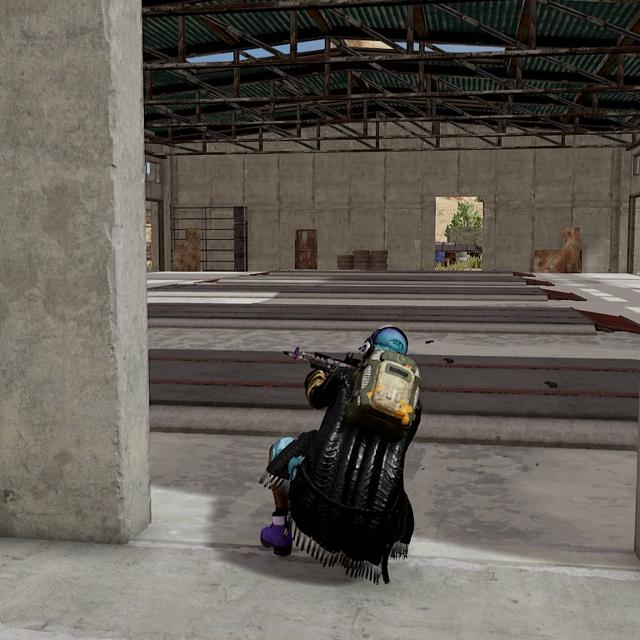head: (359, 319, 410, 379)
people: (257, 316, 425, 589)
